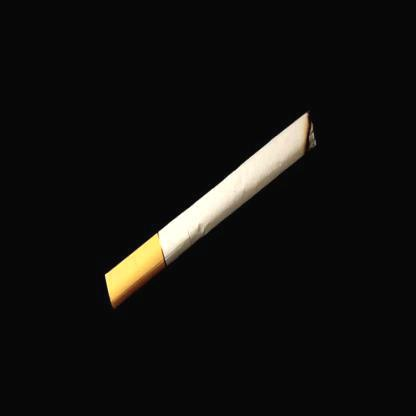cigarette: (101, 106, 320, 314)
